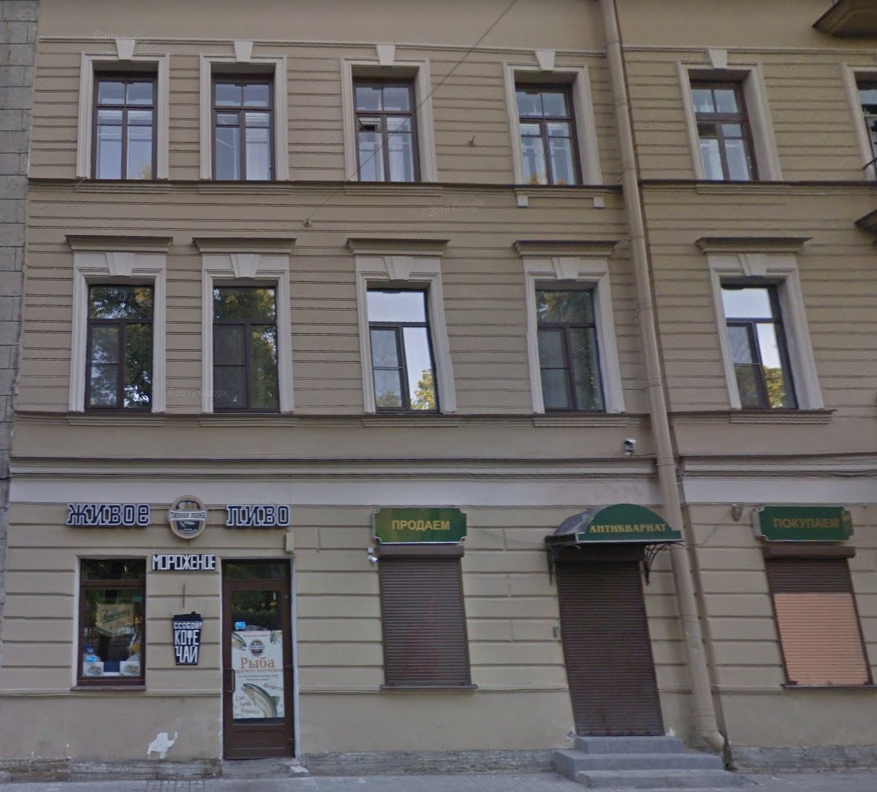door: (558, 549, 653, 741), (223, 562, 292, 766)
signboard: (59, 492, 298, 545), (746, 500, 855, 544), (365, 502, 472, 544), (151, 546, 214, 571)
window: (767, 553, 861, 690), (719, 280, 801, 410), (383, 557, 460, 687), (84, 281, 155, 412), (533, 286, 607, 411), (76, 556, 144, 687), (364, 287, 437, 409), (212, 287, 283, 412), (92, 71, 157, 184), (691, 78, 756, 179), (515, 85, 578, 184), (214, 75, 273, 179), (359, 82, 416, 178)
